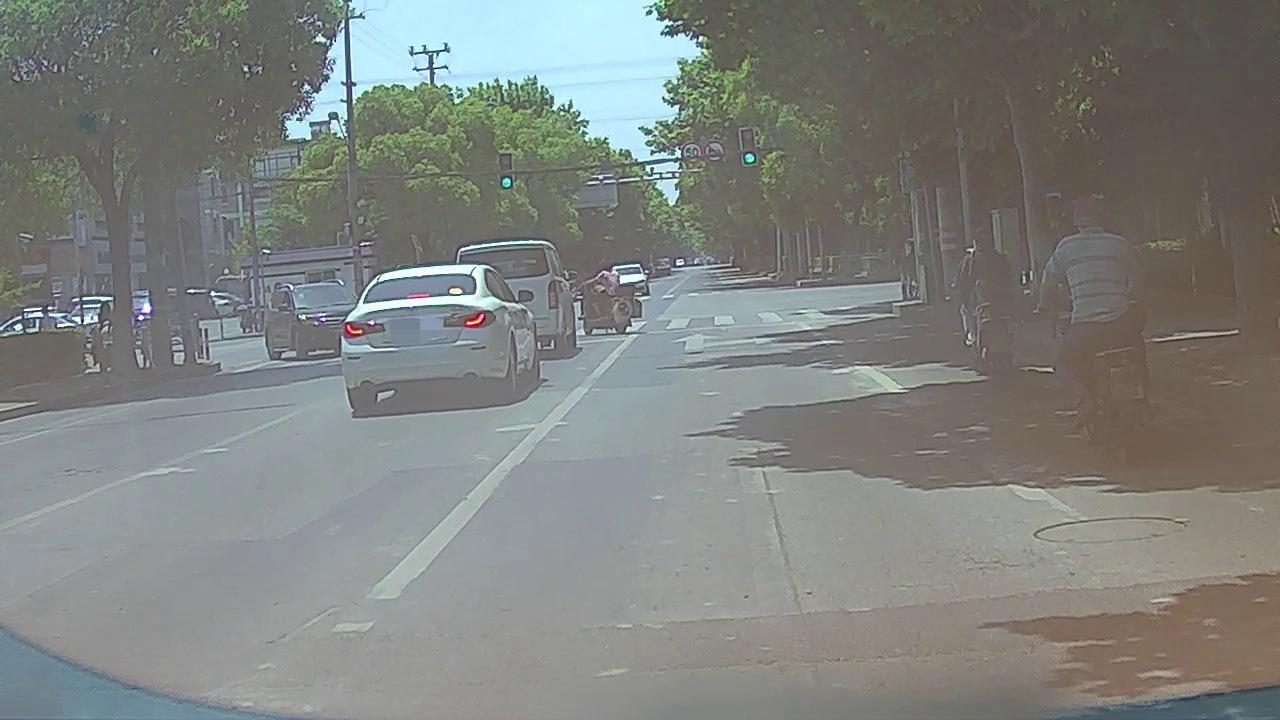traffic_light: (741, 129, 756, 165), (499, 154, 512, 188)
